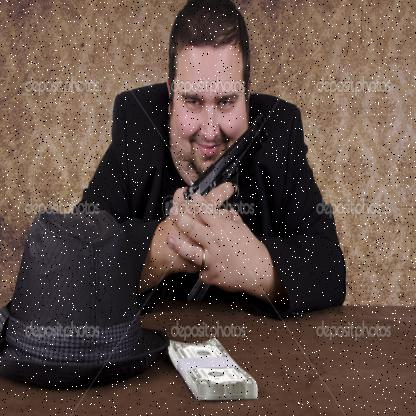pistol: (176, 129, 263, 228)
